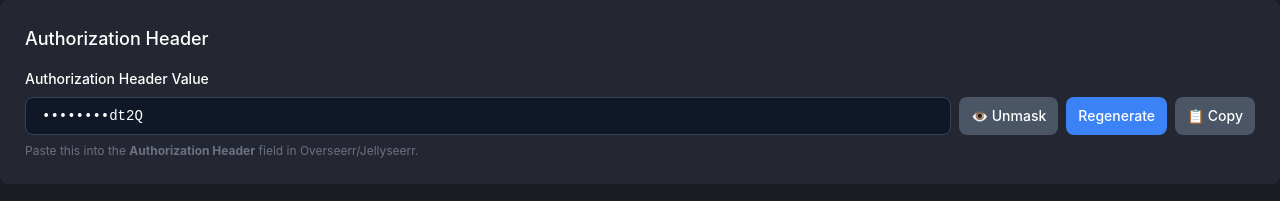
Scenario: WebhookAuthorizationHeaderCard › unmasks and re-masks authorization header reliably
Expected: the field holds "••••••••dt2Q", [25,97,951,135]
Click the button "👁️ Unmask": (1009, 116) [959,97,1058,135]
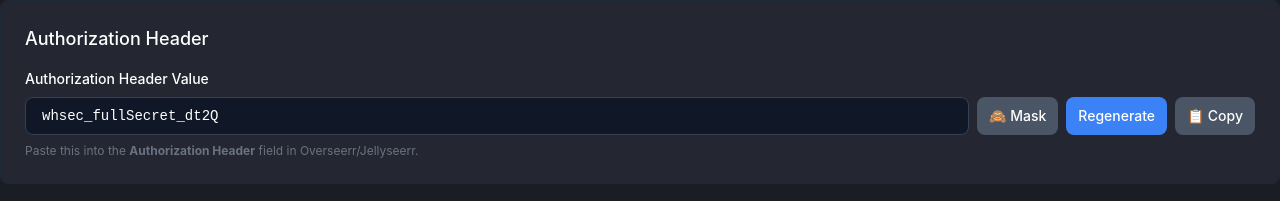
Now the field holds "whsec_fullSecret_dt2Q", box [25,97,970,135]
Click the button "🙈 Mask": (1018, 116) [978,97,1058,135]
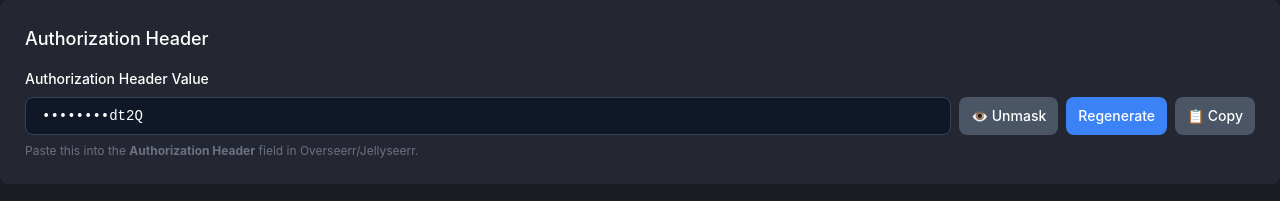
Now the field holds "••••••••dt2Q", box [25,97,951,135]
